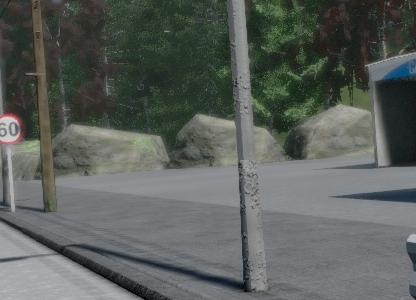Speed_60: (0, 110, 25, 147)
